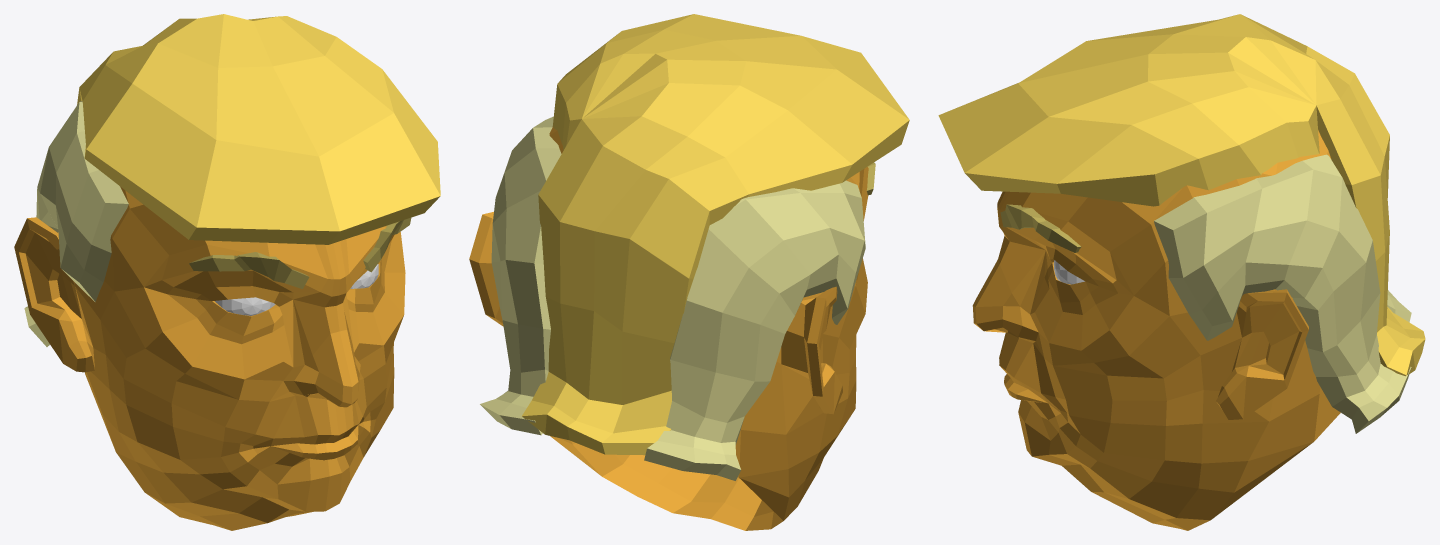
The model's file is trump.gltf.
3 renders of one model, left to right at view 1: azimuth 30°, elevation 25°; view 2: azimuth 150°, elevation 25°; view 3: azimuth 270°, elevation 25°, orthographic.
Parts seen in each view (by area): view 1: GeodeCube.001, GeodePlane.002, GeodePlane.003, GeodeCube, GeodeSphere; view 2: GeodePlane.002, GeodePlane.003, GeodeCube.001; view 3: GeodeCube.001, GeodePlane.002, GeodePlane.003, GeodeCube.
Boxes of the visible parts, bbox=[...] form: GeodeCube.001: bbox=[14, 186, 405, 530]; GeodePlane.002: bbox=[77, 14, 440, 244]; GeodePlane.003: bbox=[24, 101, 128, 346]; GeodeCube: bbox=[189, 217, 411, 288]; GeodeSphere: bbox=[215, 264, 378, 315]; GeodePlane.002: bbox=[522, 14, 909, 455]; GeodePlane.003: bbox=[480, 116, 865, 480]; GeodeCube.001: bbox=[469, 127, 868, 530]; GeodeCube.001: bbox=[972, 130, 1340, 530]; GeodePlane.002: bbox=[938, 14, 1425, 376]; GeodePlane.003: bbox=[1154, 154, 1411, 433]; GeodeCube: bbox=[1000, 204, 1081, 252].
Size of the model in its own units: 4.38 by 5.84 by 5.39.
